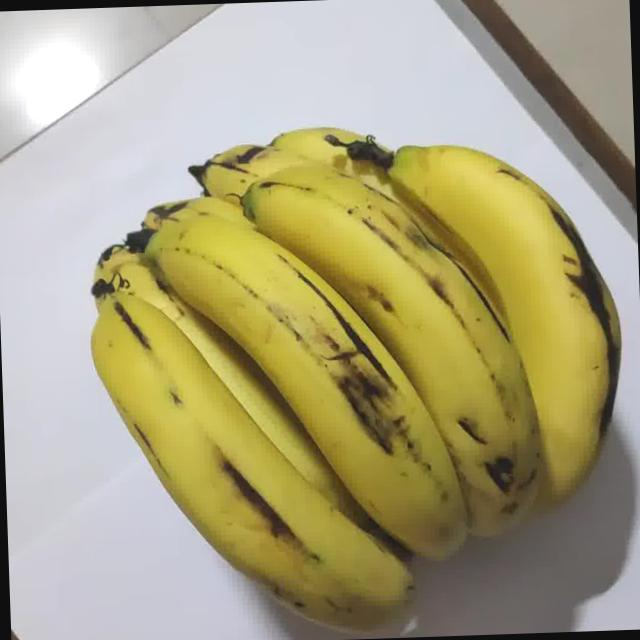banana_pacche: (42, 24, 627, 640)
